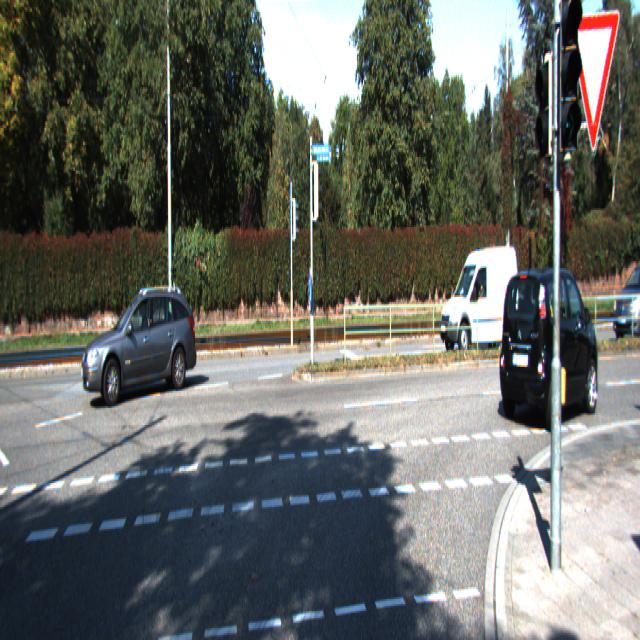Car: (498, 258, 604, 432), (83, 285, 198, 408), (438, 242, 520, 358), (612, 262, 640, 346)
